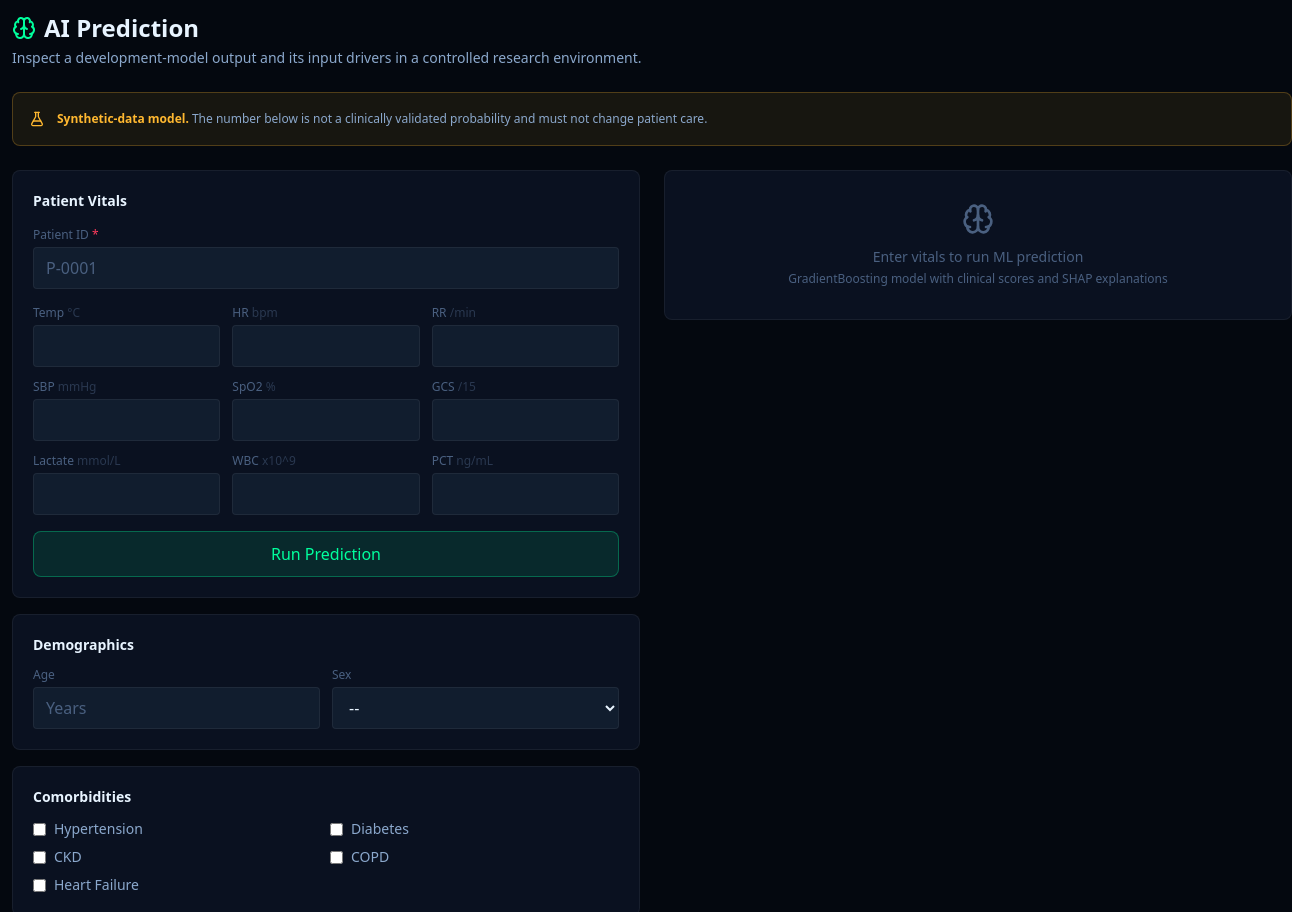
Predict › explains an unavailable model instead of showing a result
Type "research-1" into the field labelled "Patient ID *". click: (326, 268)
box: x1=33 y1=247 x2=619 y2=289
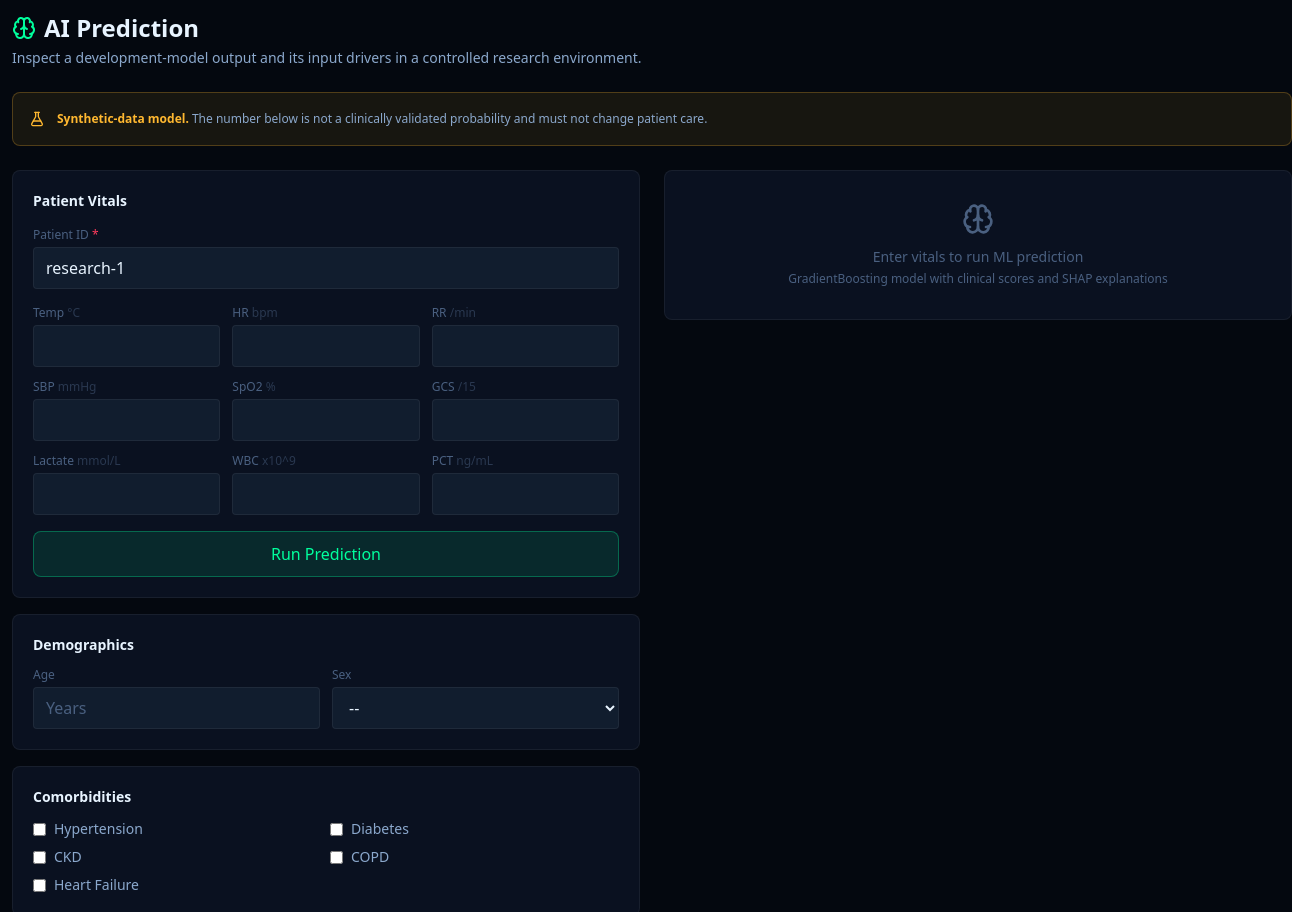
Type "118" into the number field labelled "HR bpm". click: (326, 346)
box: x1=232 y1=325 x2=420 y2=367
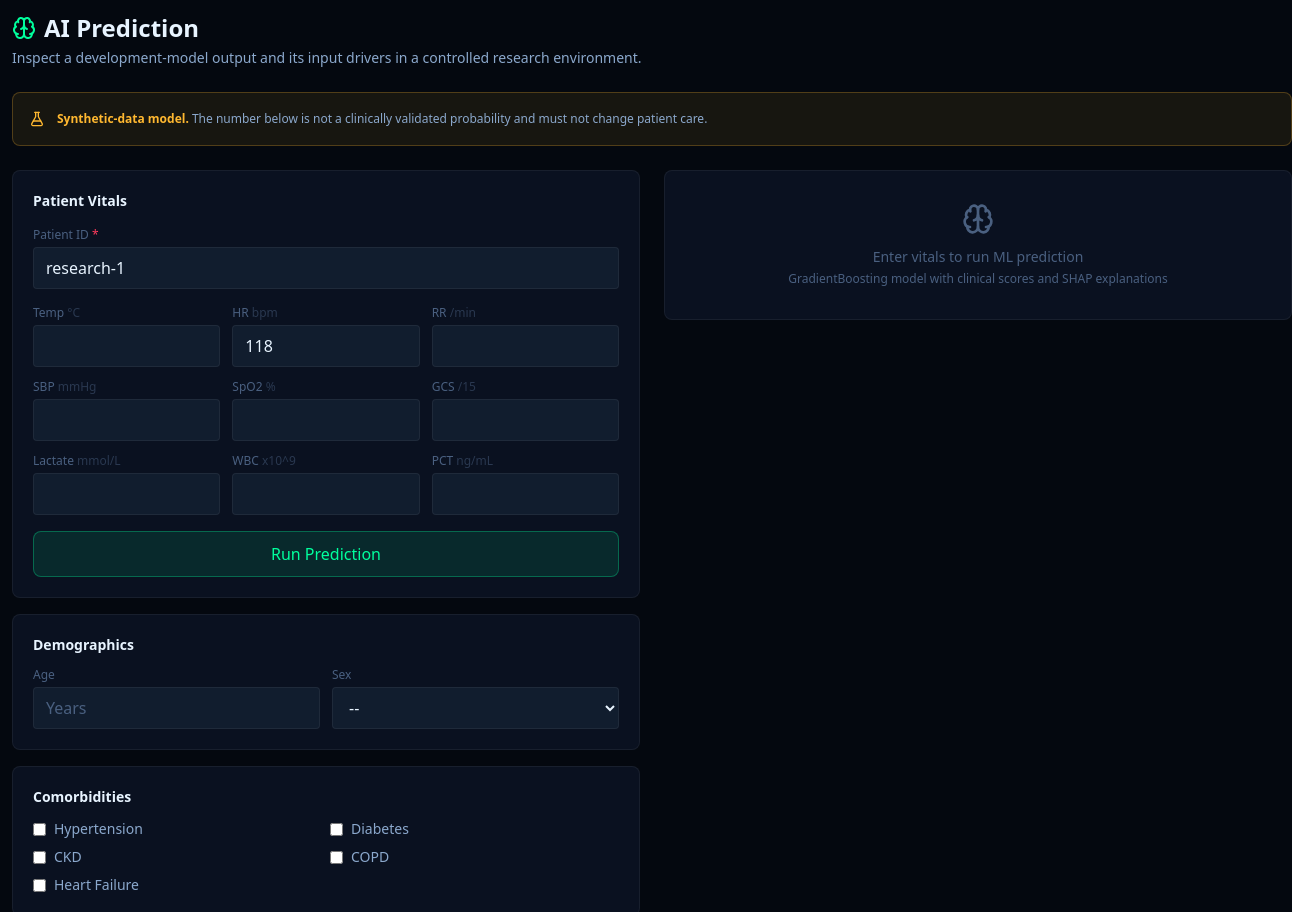
Type "24" into the number field labelled "RR /min". click: (525, 346)
box: x1=432 y1=325 x2=619 y2=367
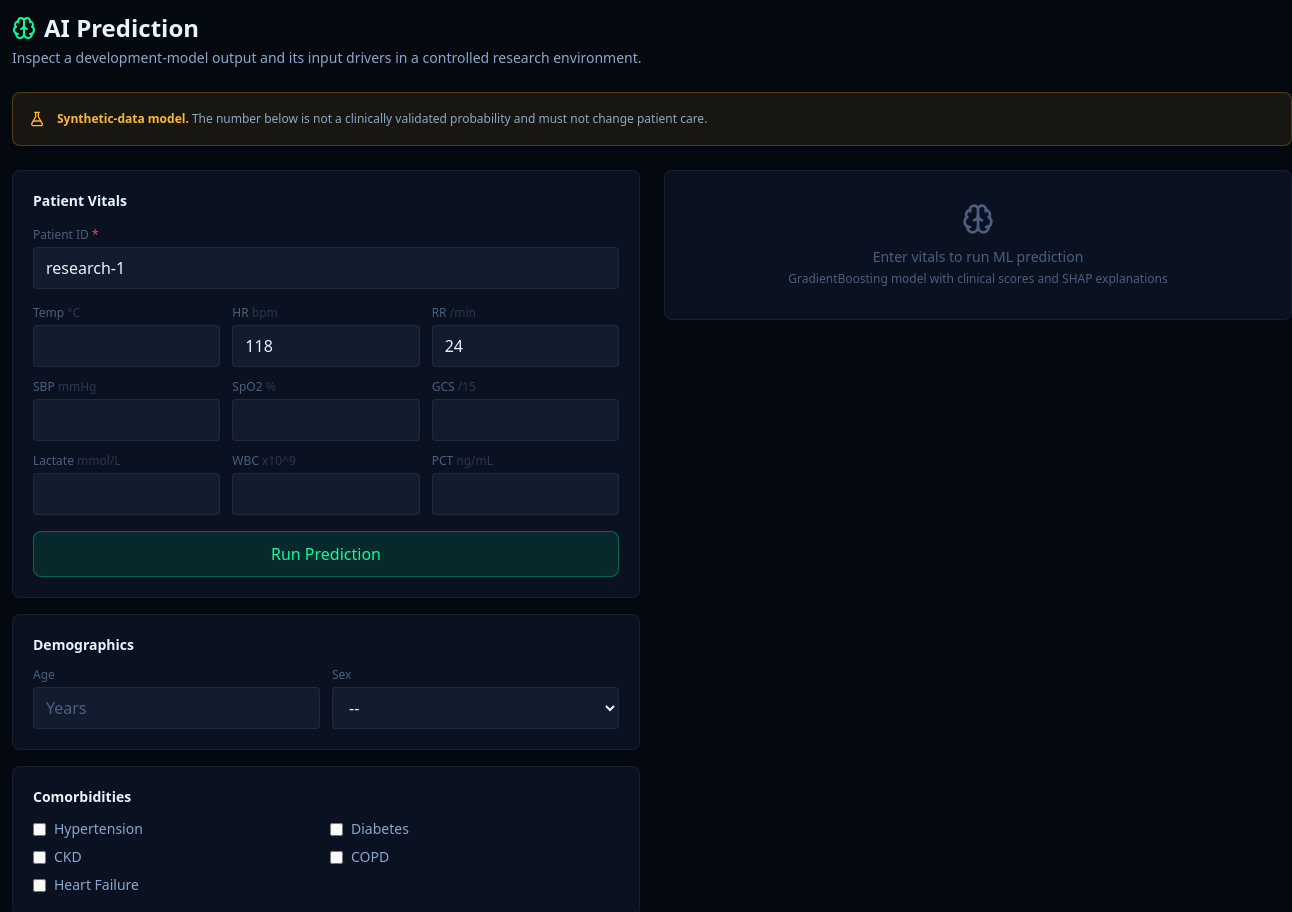
Type "96" into the number field labelled "SBP mmHg". click: (127, 420)
box: x1=33 y1=399 x2=220 y2=441
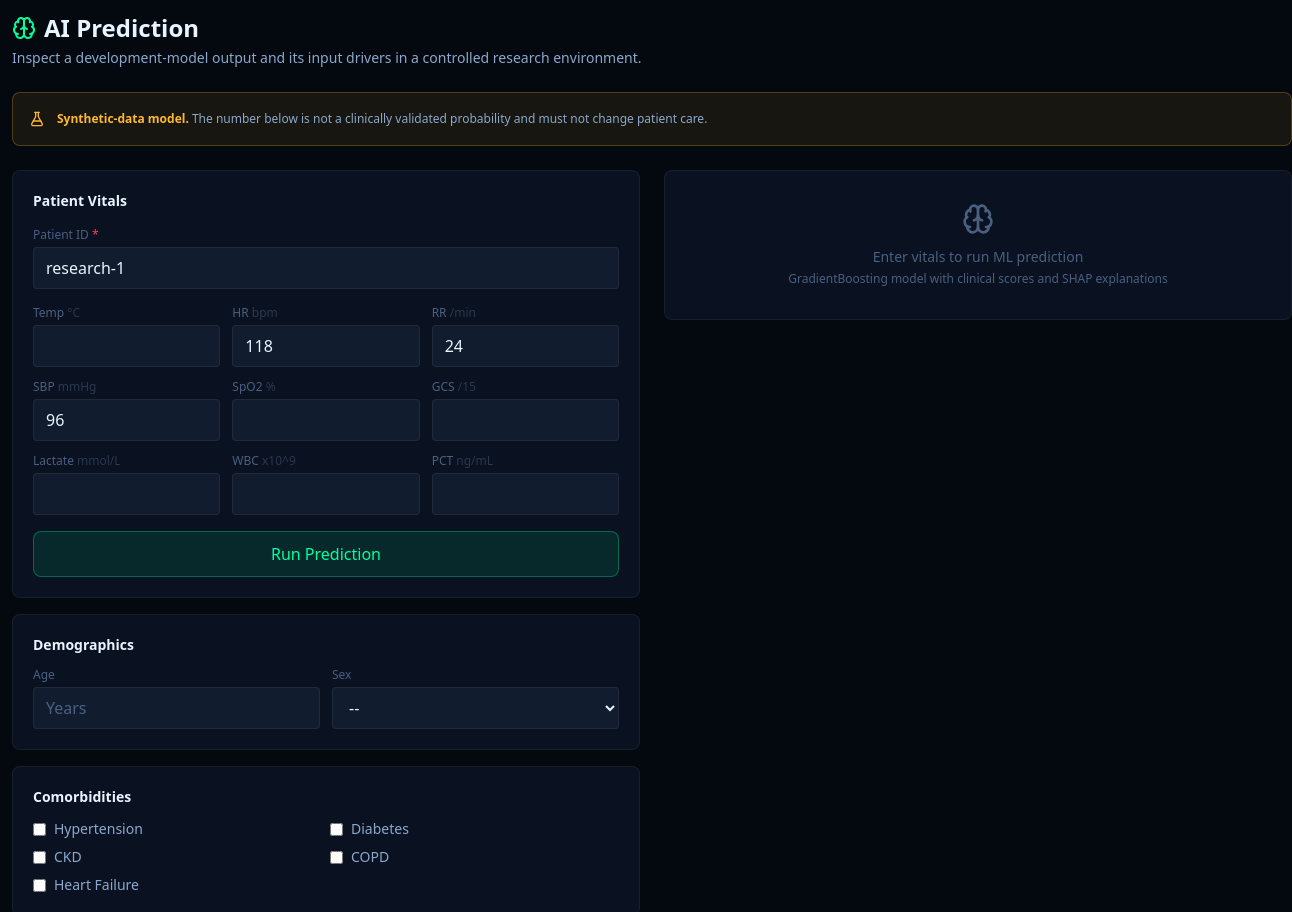
Click the button "Run Prediction". click: click(326, 554)
box: x1=33 y1=531 x2=619 y2=577
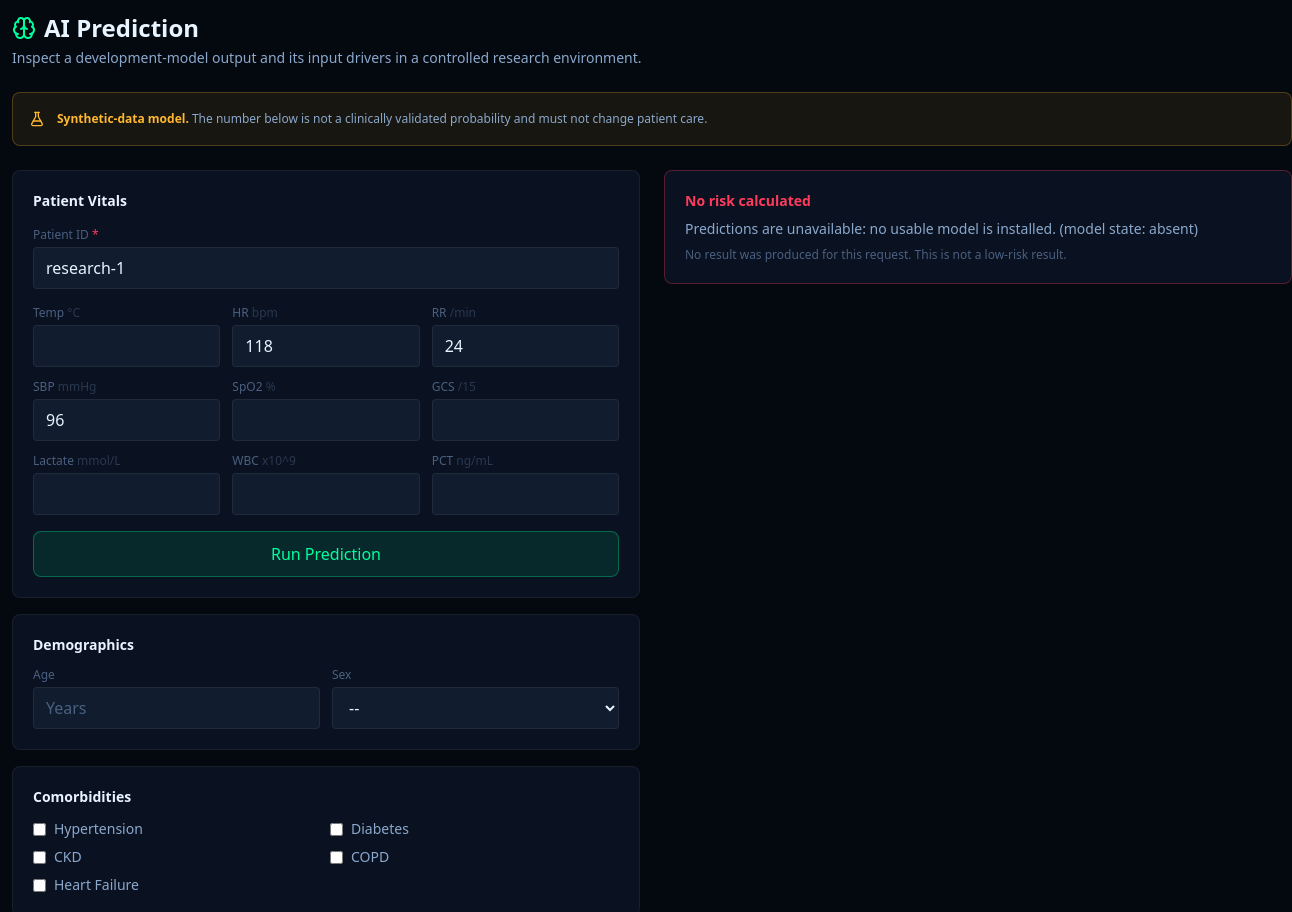
Result: the text "model state: absent" is shown at x1=685 y1=219 x2=1198 y2=238
Result: the message with test id "no-risk" shows "not a low-risk result" at x1=685 y1=246 x2=1067 y2=263
